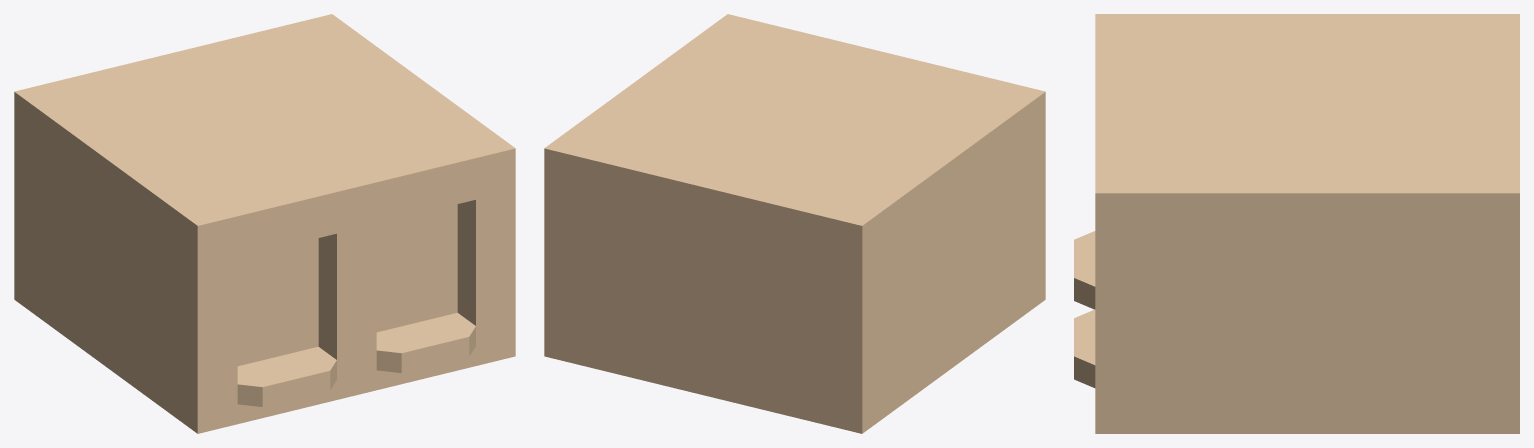
Rendered from building-windows-sills.obj.
3 views of the same model, side by side, from view 1: azimuth 30°, elevation 25°; view 2: azimuth 150°, elevation 25°; view 3: azimuth 270°, elevation 25° (orthographic). The views are drawn at different scales.
Size of the model in its own units: 1 by 0.625 by 1.05.
